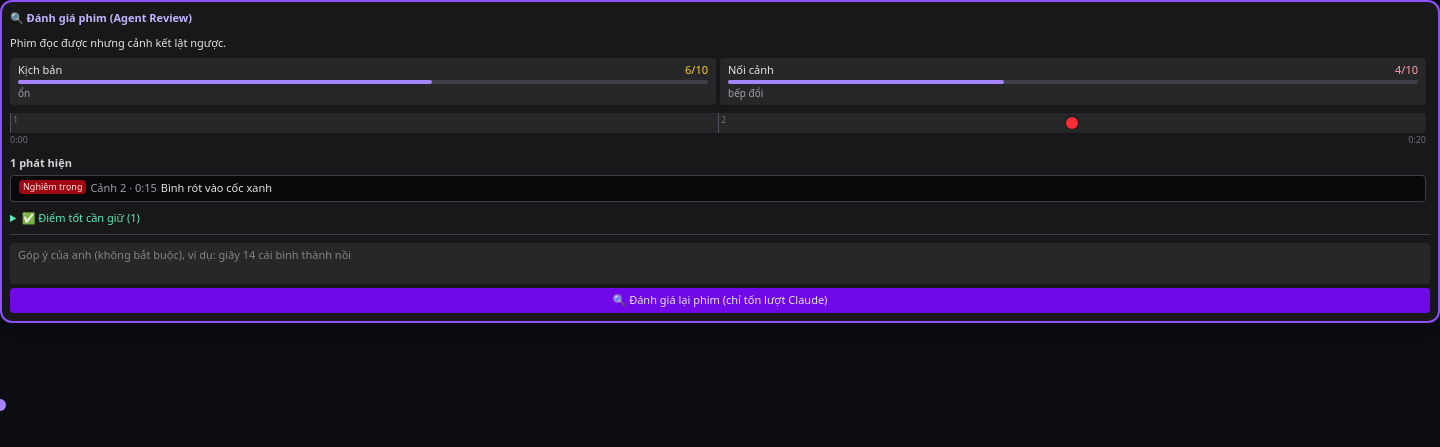
it: ReviewNode (Agent Review) › shows the scores, the summary and a finding with its cause and fix
This screenshot has width=1440, height=447.
Expected: the text "Phim đọc được nhưng cảnh kết lật ngược." is shown, [10,34,226,50]
Expected: the text "6/10" is shown, [685,62,708,78]
Click the text "Bình rót vào cốc xanh" at (216, 188), box [161,180,272,197]
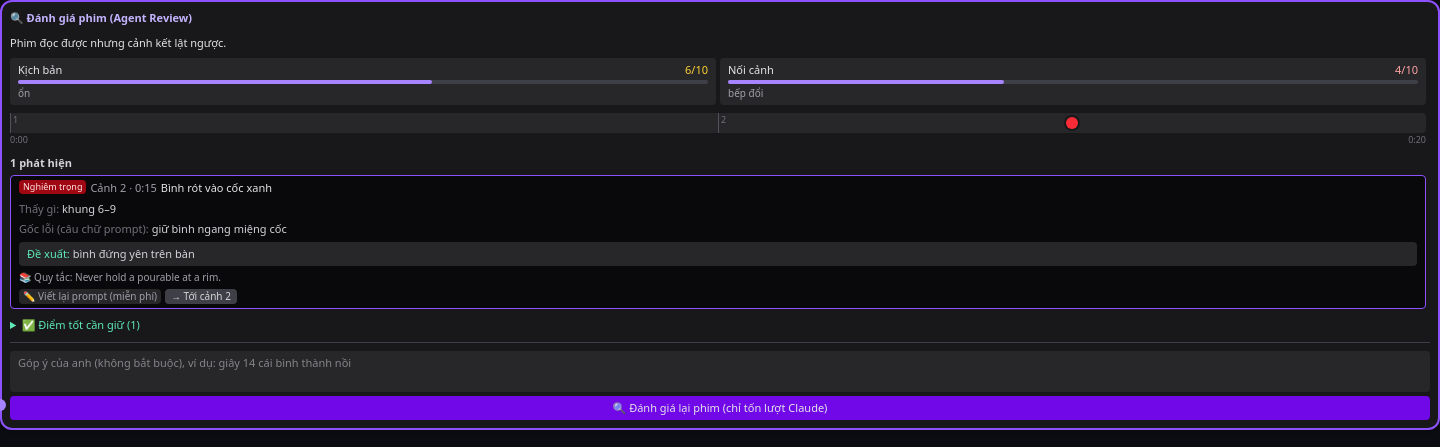
Expected: the text "bình đứng yên trên bàn" is shown, [73,246,195,261]
Expected: the text "Gốc lỗi (câu chữ prompt):" is shown, [19,221,152,236]
Expected: the button "→ Tới cảnh 2" is shown, [165,289,237,304]
